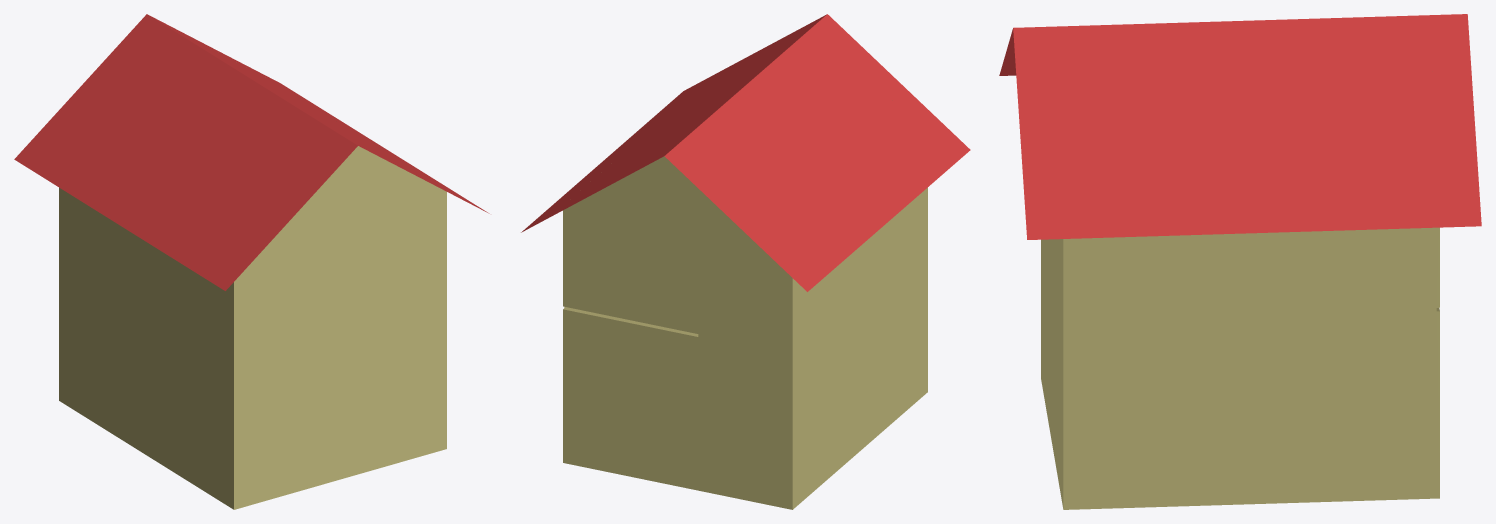
3 views of the same model, side by side, from view 1: azimuth 30°, elevation 25°; view 2: azimuth 150°, elevation 25°; view 3: azimuth 270°, elevation 25° (orthographic). The views are drawn at different scales.
Size of the model in its own units: 10.76 by 12.34 by 11.78.
